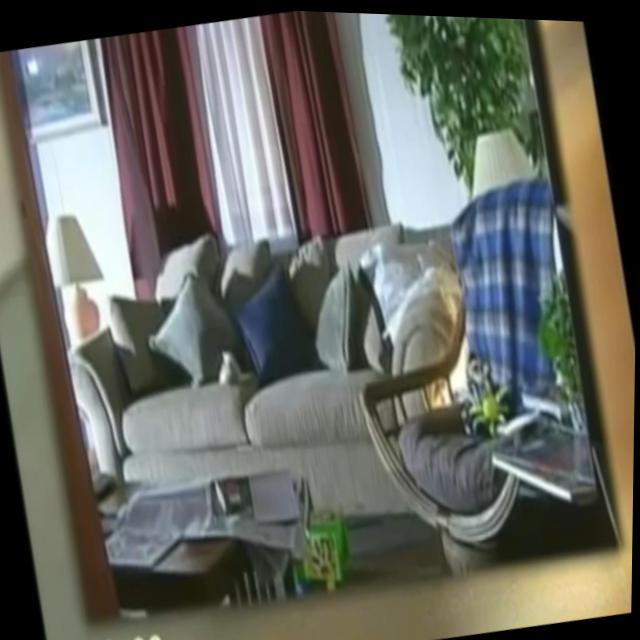fire: (419, 289, 486, 406)
